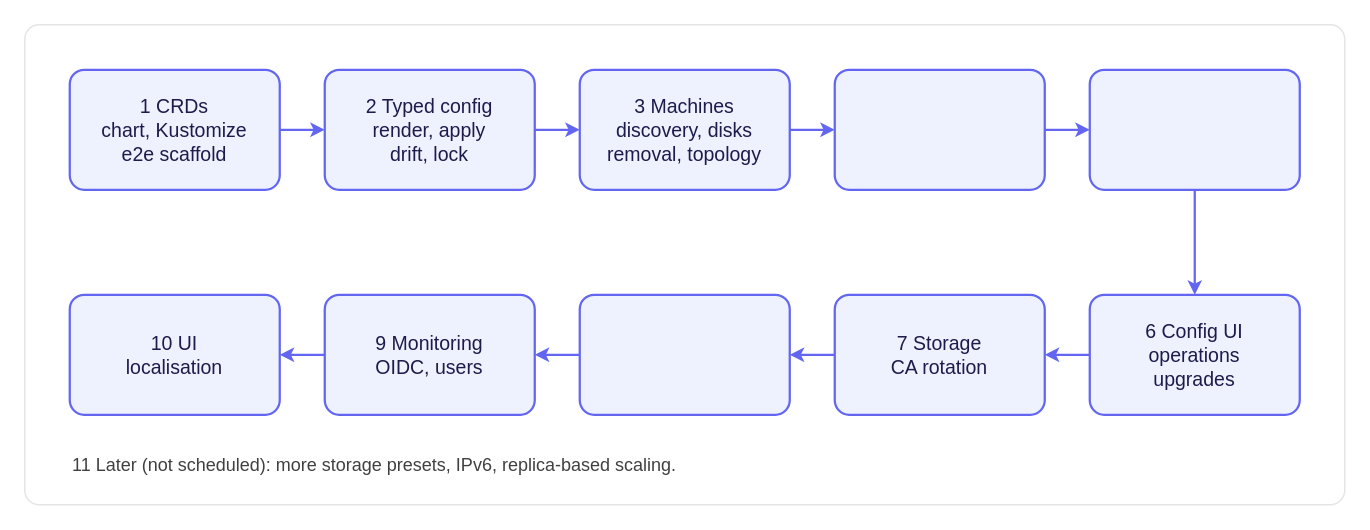
This 1370x530 diagram has some shape labels left out. Here are the shapes that lost their labels. From the top down, the centre of each, then its label:
At [939,129]: "4 init, adopt Cilium".
At [1194,129]: "5 UI read, approve backup, restore".
At [684,354]: "8 Override".
